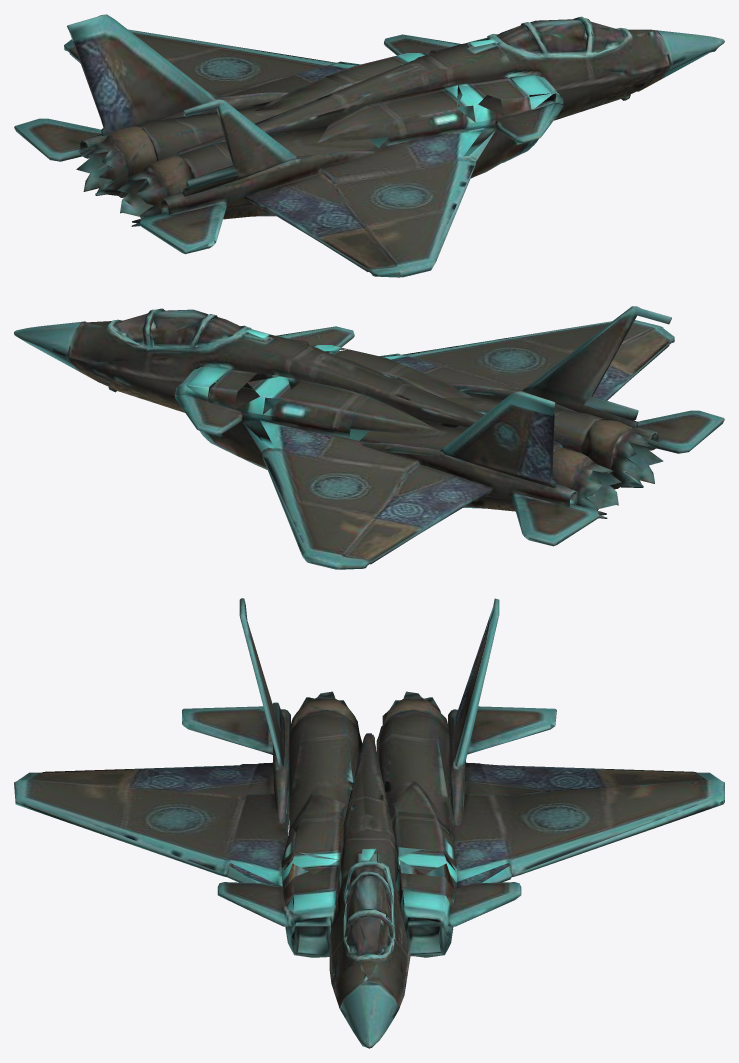
File: cyan_gunship.glb
The picture shows the model from 3 angles, top to bottom: view 1: azimuth 30°, elevation 25°; view 2: azimuth 150°, elevation 25°; view 3: azimuth 270°, elevation 25°; orthographic projection. The views are drawn at different scales.
Parts seen in each view (by area): view 1: Body, Trim; view 2: Body, Trim; view 3: Body, Trim.
Boxes of the visible parts, box(x1,y1,x2,y2) form: Body: box(14, 14, 724, 277); Trim: box(208, 39, 563, 246); Body: box(14, 306, 724, 569); Trim: box(122, 321, 401, 562); Body: box(14, 598, 724, 1048); Trim: box(182, 721, 724, 952).
Size of the model in its own units: 14 by 3.51 by 12.52.
2 materials, 2 textured.
